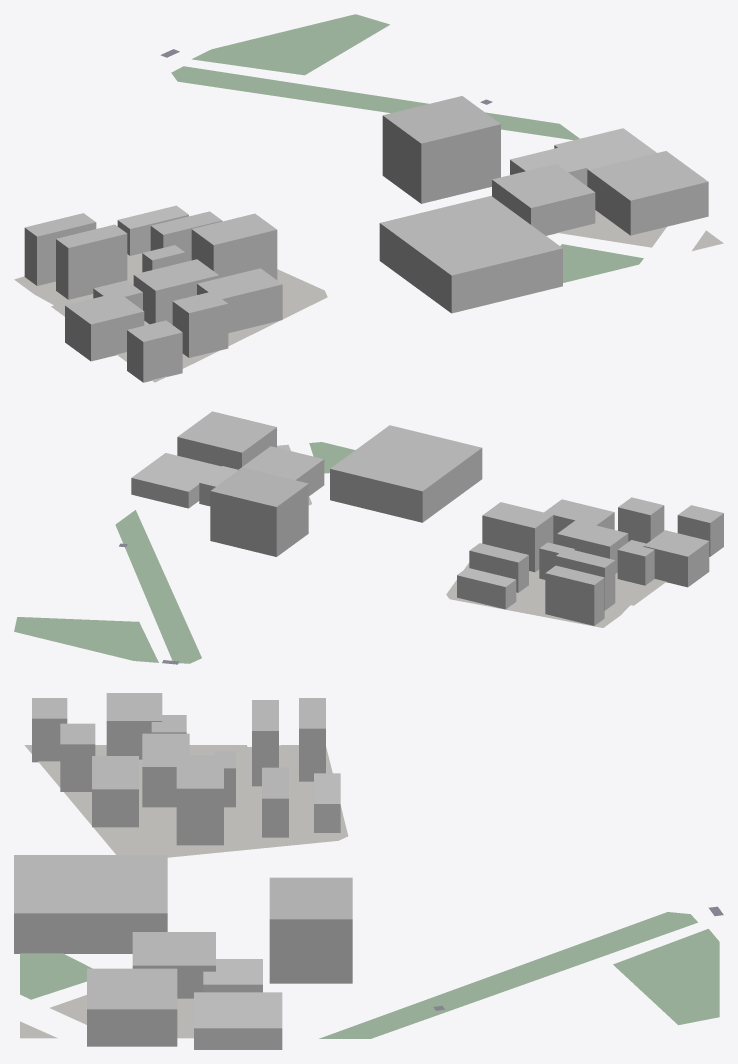
Rendered from 134_101_mid.glb.
3 views of the same model, one above another, from view 1: azimuth 30°, elevation 25°; view 2: azimuth 150°, elevation 25°; view 3: azimuth 270°, elevation 25° (orthographic). The views are drawn at different scales.
Bounding box in the file's own units: 542 × 52.91 × 507.
